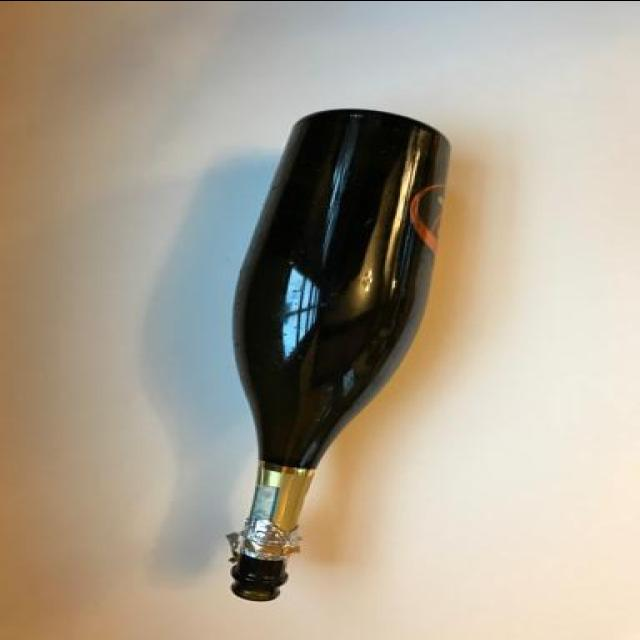Glass Bottle: (222, 100, 456, 606)
